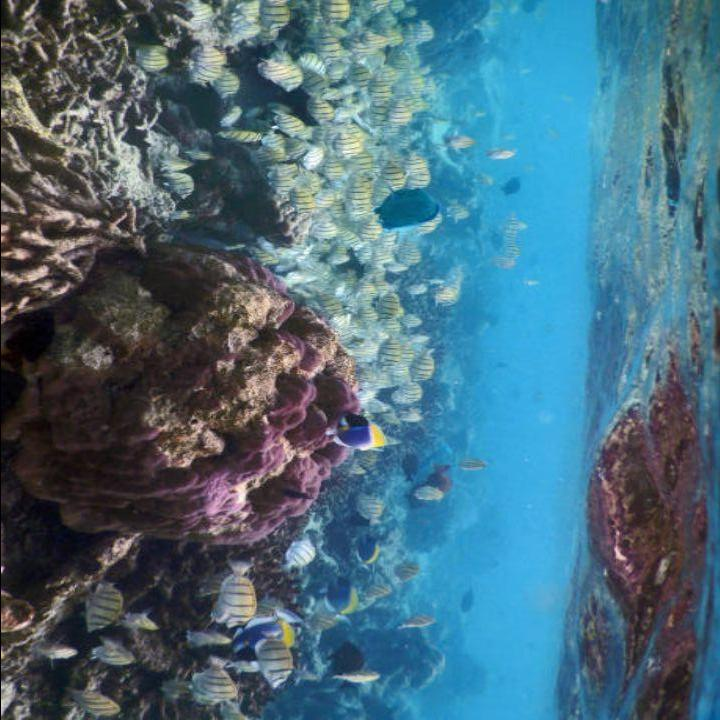Dead Coral: (11, 250, 330, 551)
